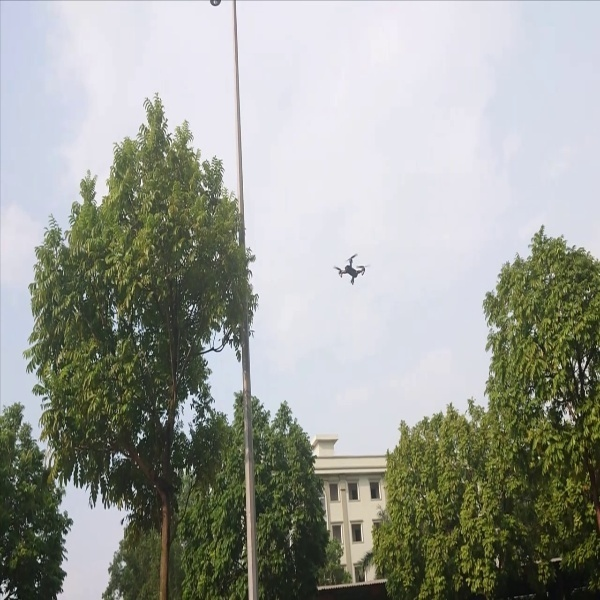drone: (328, 249, 374, 287)
